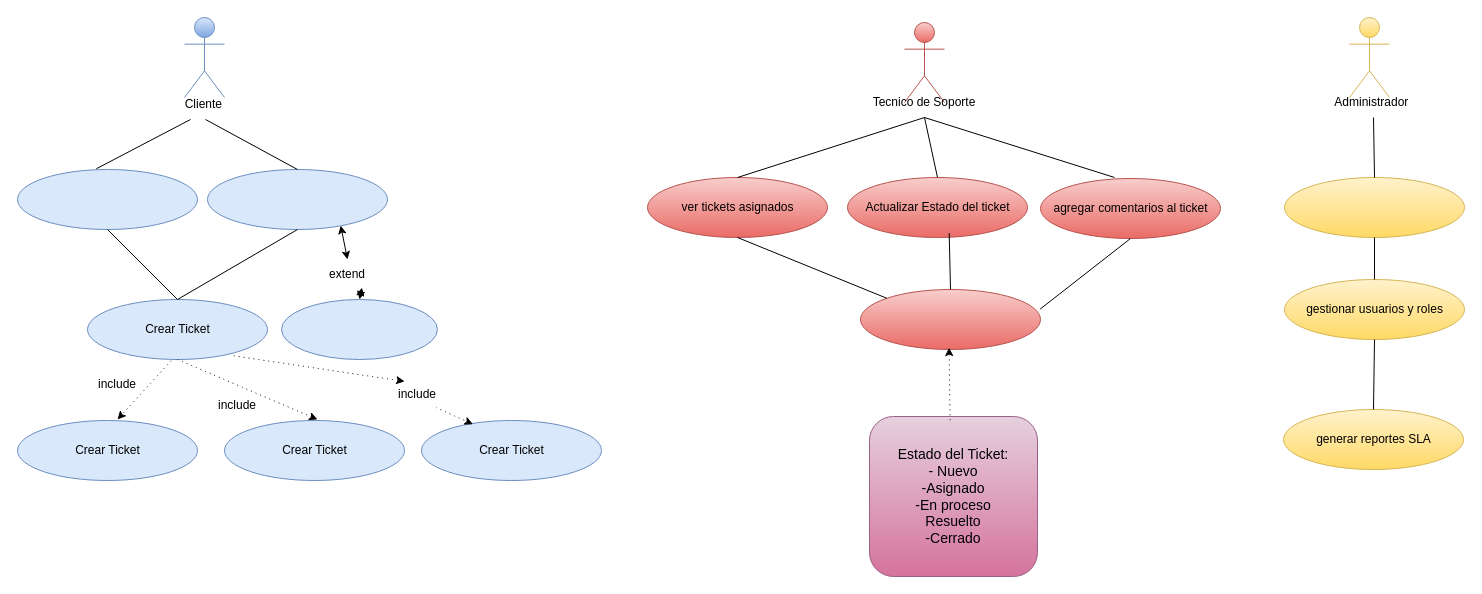
The diagram is 1482 pixels wide and 594 high, and some of its shapes have lost their labels. The centre of each missing label's shape, as x and y in pixels:
"asignar ticket a tecico" belongs at point 1374,207.
"consultar estado de ticket" belongs at point 297,199.
"INICIAR SECION" belongs at point 107,199.
"recibir notificcacion" belongs at point 359,329.
"resolver ticket" belongs at point 950,319.
